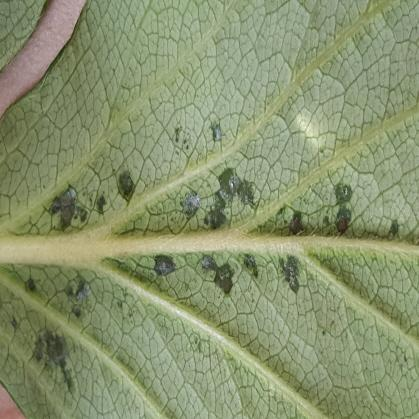Angular Leafspot: (2, 109, 410, 403)
